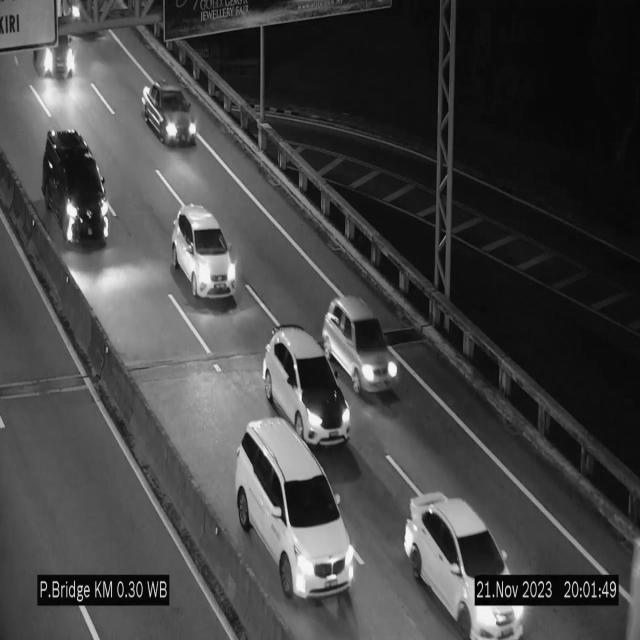Car: (235, 418, 355, 600), (404, 493, 516, 639), (263, 327, 351, 445), (43, 126, 112, 247), (321, 298, 401, 394), (172, 206, 238, 300), (142, 82, 196, 144), (27, 19, 79, 82)
